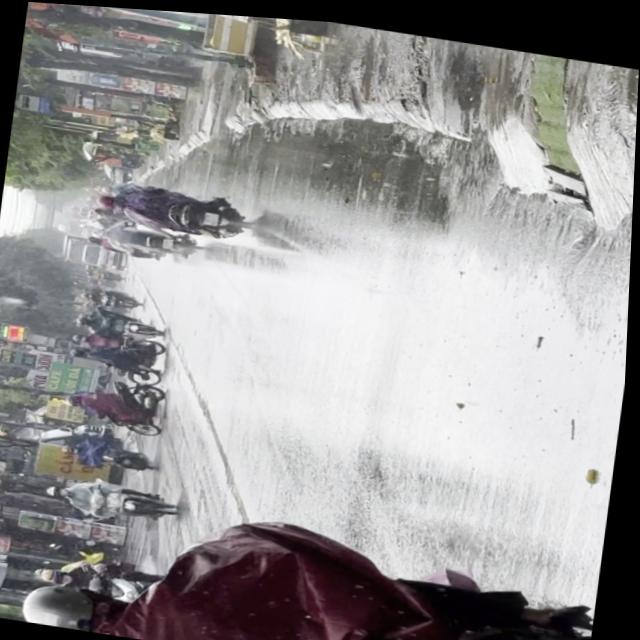helmet: (21, 576, 132, 634), (93, 192, 120, 209)
licenseplate: (17, 478, 606, 640), (89, 176, 261, 243)
